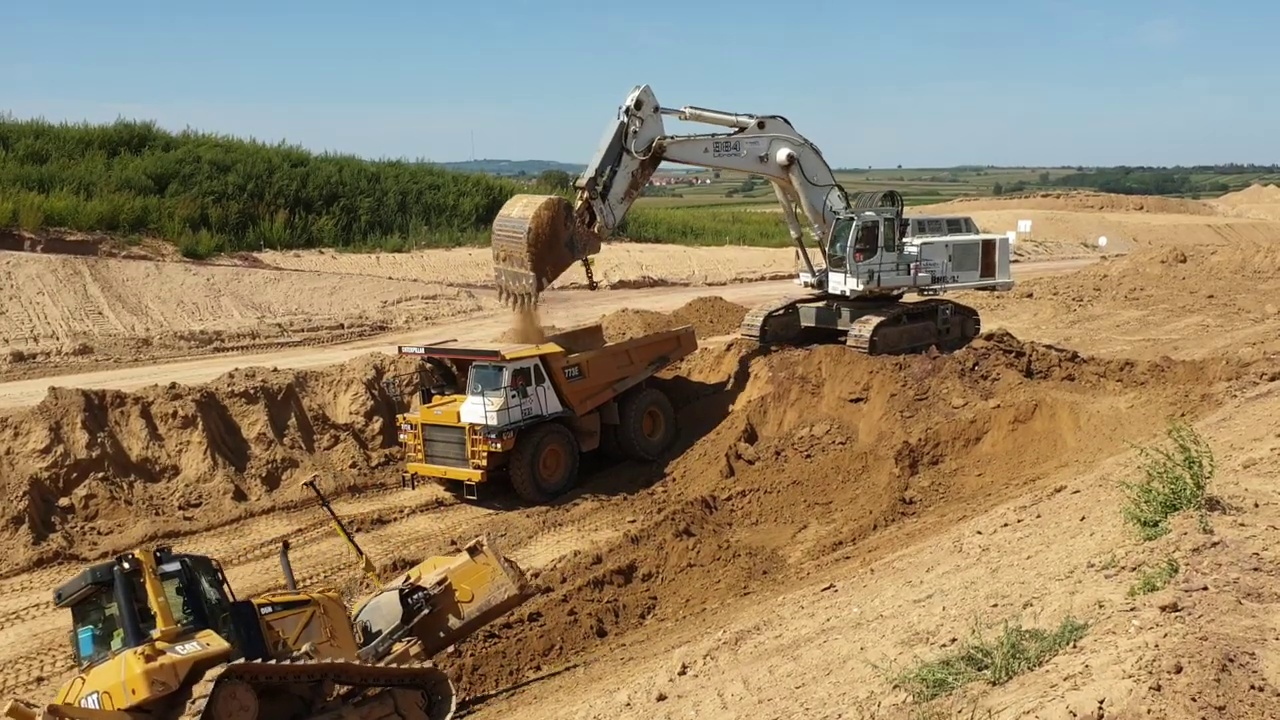bulldozer: (9, 474, 535, 720)
excavator: (484, 81, 1019, 359)
truck: (385, 321, 708, 509)
